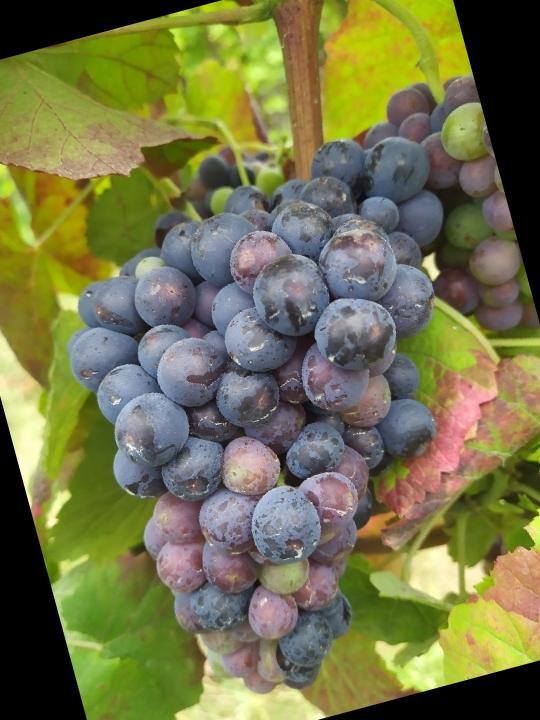grape: (30, 119, 540, 720)
